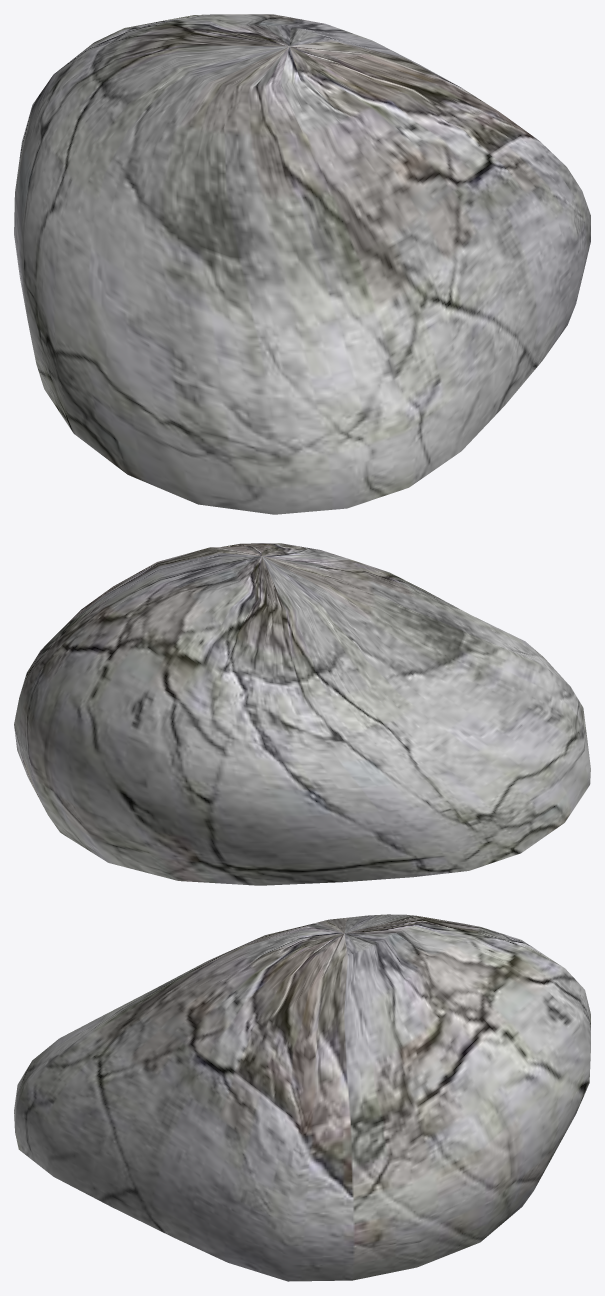
File: Rock 2.fbx
3 renders of one model, top to bottom at view 1: azimuth 30°, elevation 25°; view 2: azimuth 150°, elevation 25°; view 3: azimuth 270°, elevation 25°, orthographic. The views are drawn at different scales.
Parts seen in each view (by area): view 1: pSphere2; view 2: pSphere2; view 3: pSphere2.
Part boxes in pixels (bbox=[...]): pSphere2: bbox=[14, 14, 590, 514]; pSphere2: bbox=[14, 543, 590, 885]; pSphere2: bbox=[14, 914, 590, 1281].
Bounding box in the file's own units: 9.18 × 5.06 × 10.17.
Materials: 1 (1 with a texture image).
